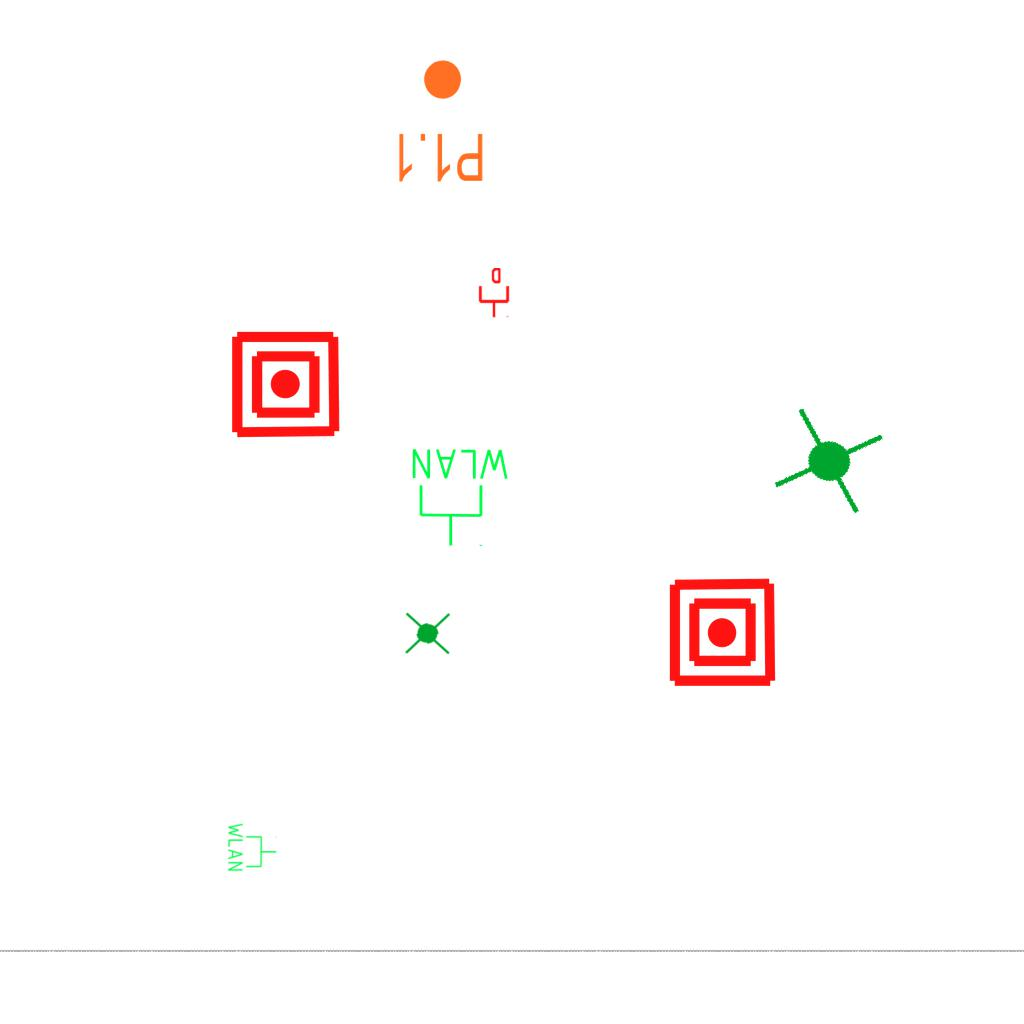Datenanschluss_einfach: (477, 268, 511, 318)
Downlight_LED_Einbauleuchten_Flur_2: (393, 57, 486, 185)
NAM-Nichtautomatischer_Melder: (229, 328, 342, 441), (666, 576, 779, 689)
Notlichtbaustein_in_Allgemeinbeleuchtug_engebaut_Einbau_(1UG_und_2UG_Aufbauvaria: (765, 395, 894, 525), (402, 608, 453, 660)
WLAN: (408, 445, 513, 549), (226, 821, 278, 873)
